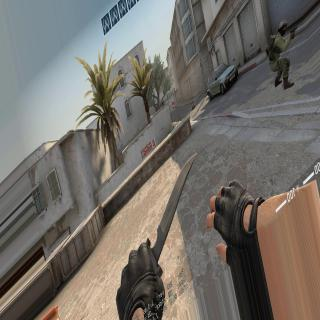CT-Body: (264, 17, 296, 91)
CT-Head: (277, 19, 288, 33)
